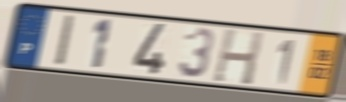1: (91, 18, 113, 71), (276, 38, 296, 85)
3: (178, 26, 214, 81)
4: (129, 21, 168, 77)
H: (210, 27, 266, 88)
I: (54, 12, 78, 68)
